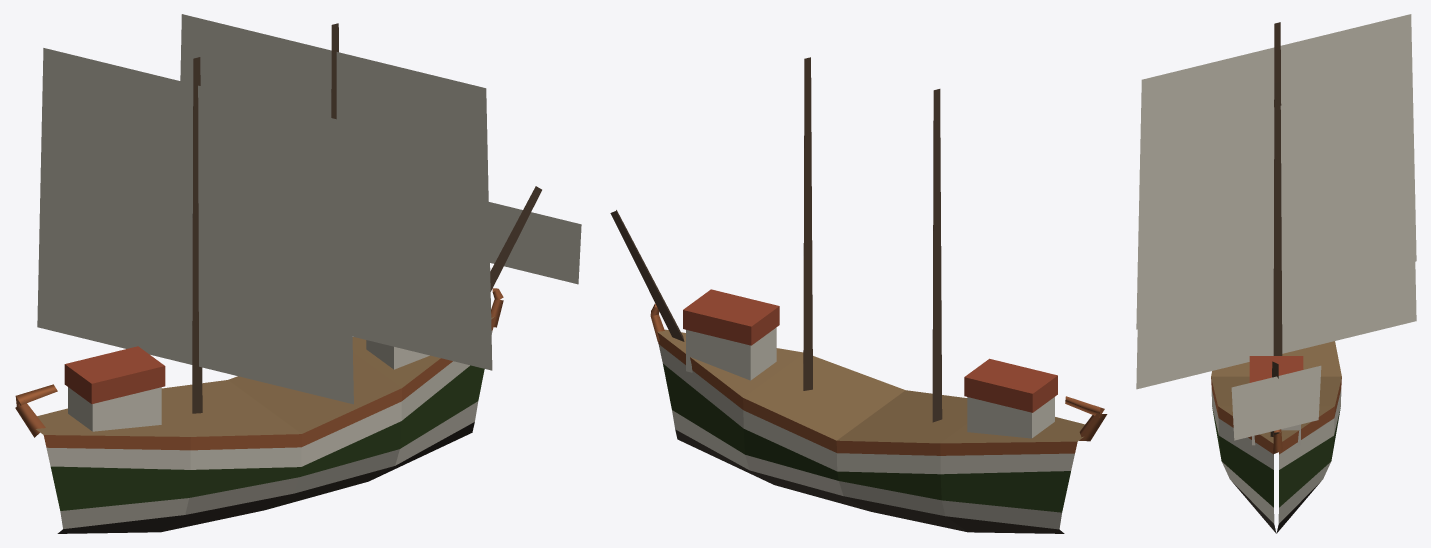
File: titan_usdg_lod.glb
3 renders of one model, left to right at view 1: azimuth 30°, elevation 25°; view 2: azimuth 150°, elevation 25°; view 3: azimuth 270°, elevation 25°, orthographic. The views are drawn at different scales.
Parts seen in each view (by area): view 1: lod; view 2: lod; view 3: lod.
Part boxes in pixels (left/top/right/bottom): lod: left=15, top=14, right=581, bottom=533; lod: left=610, top=57, right=1107, bottom=533; lod: left=1136, top=14, right=1416, bottom=533.
Size of the model in its own units: 25.42 by 21.04 by 12.84.
